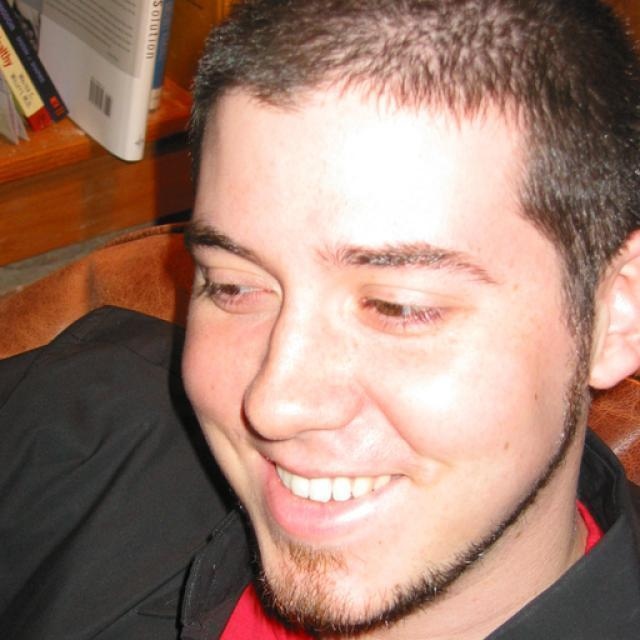0_rostro_limpio: (183, 0, 640, 622)
